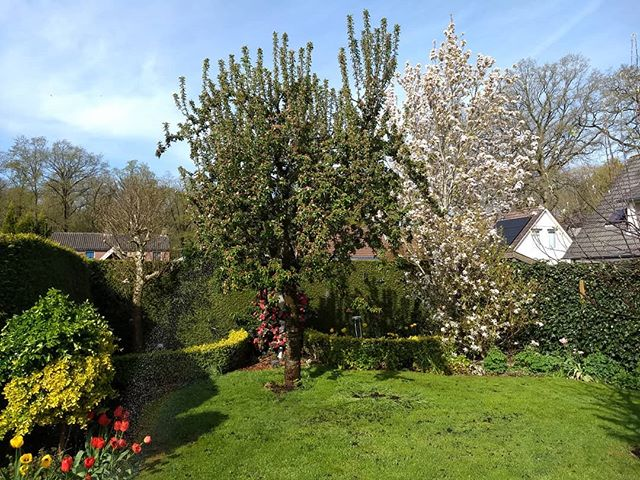building: (569, 139, 640, 266), (497, 200, 572, 265), (51, 232, 170, 263)
flowers: (1, 407, 148, 480)
grass: (135, 371, 640, 480)
sky: (1, 1, 189, 164)
tree: (191, 32, 405, 378), (387, 26, 533, 380), (491, 52, 640, 190)
